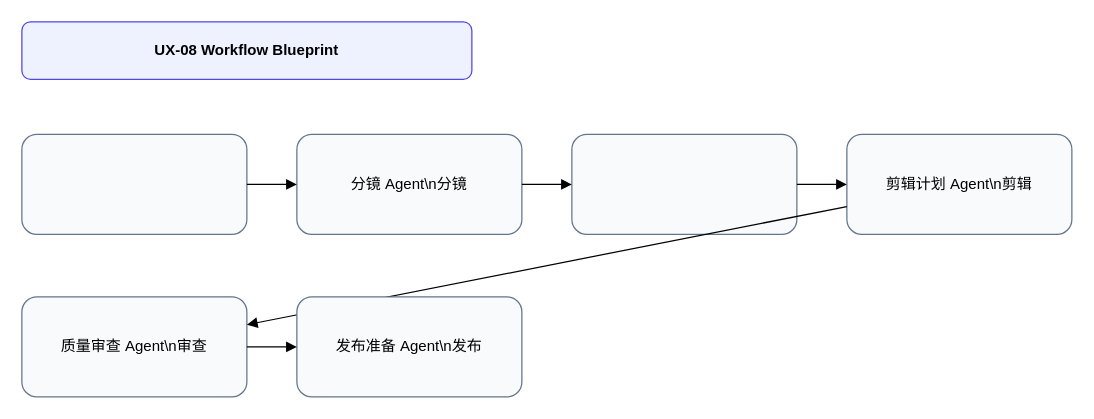
Some shapes in this 1094 by 419 pixel diagram are drawn without their labels. Each missing label, with the centre of its shape:
"文案 Agent\n文案" belongs at pixel 684 183.
"编剧 Agent\n编剧" belongs at pixel 134 183.
